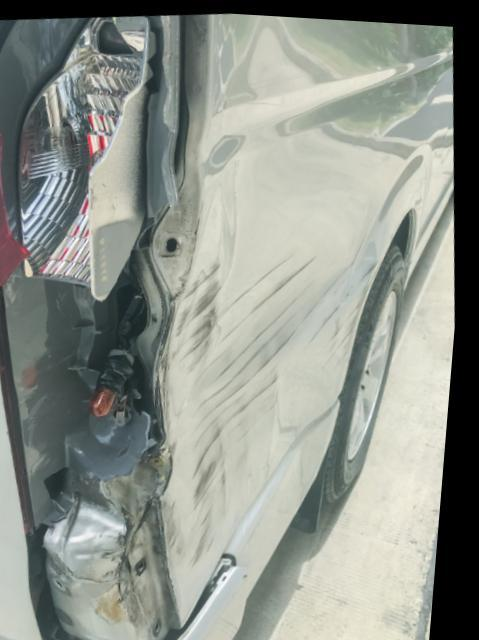dent: (166, 96, 393, 619)
lamp broken: (0, 12, 192, 640)
